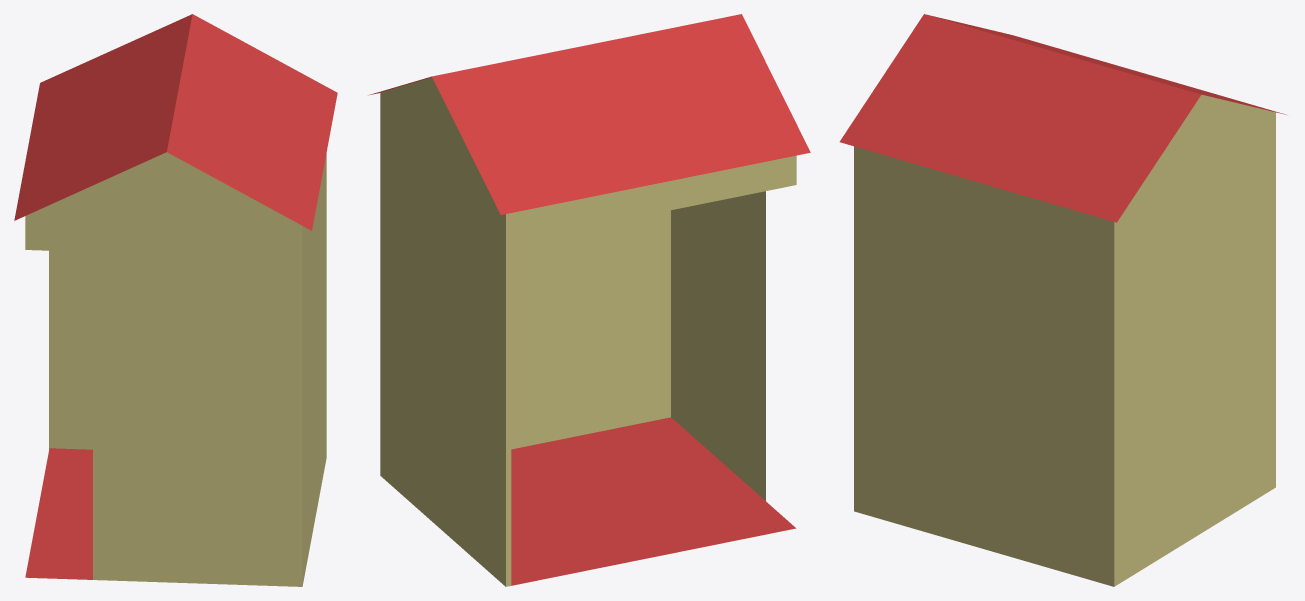
3 renders of one model, left to right at view 1: azimuth 30°, elevation 25°; view 2: azimuth 150°, elevation 25°; view 3: azimuth 270°, elevation 25°, orthographic. The views are drawn at different scales.
Bounding box in the file's own units: 10.54 × 10.72 × 11.7.
